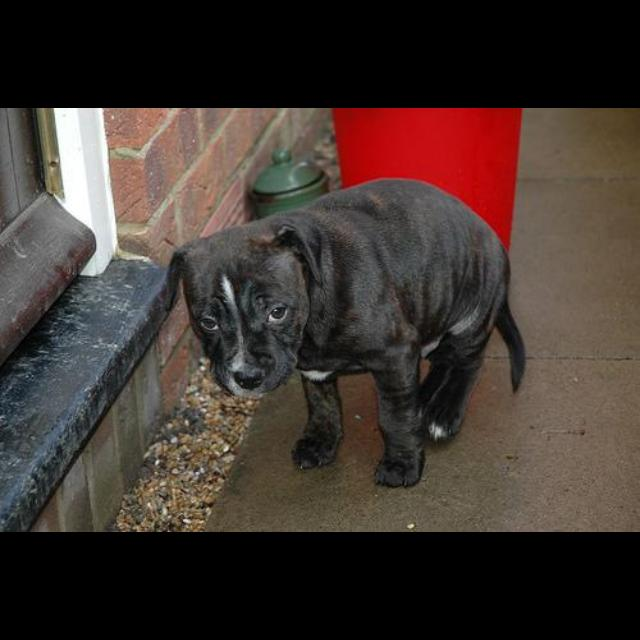staffford: (165, 177, 527, 489)
